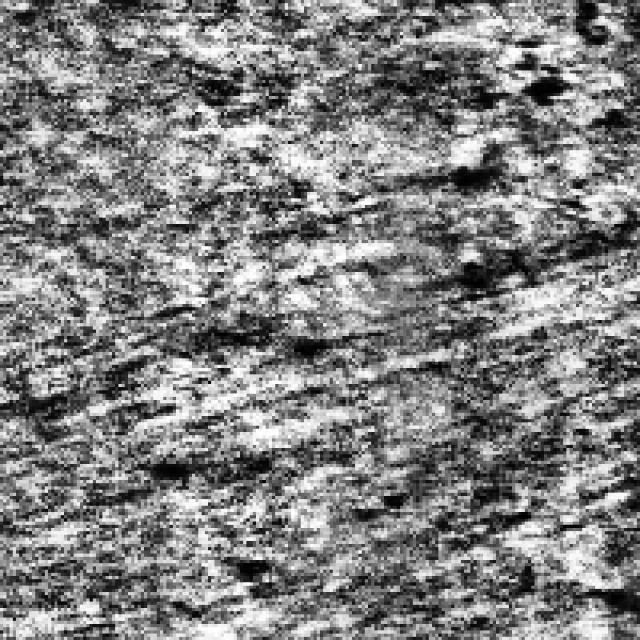Crazing: (480, 0, 611, 115)
